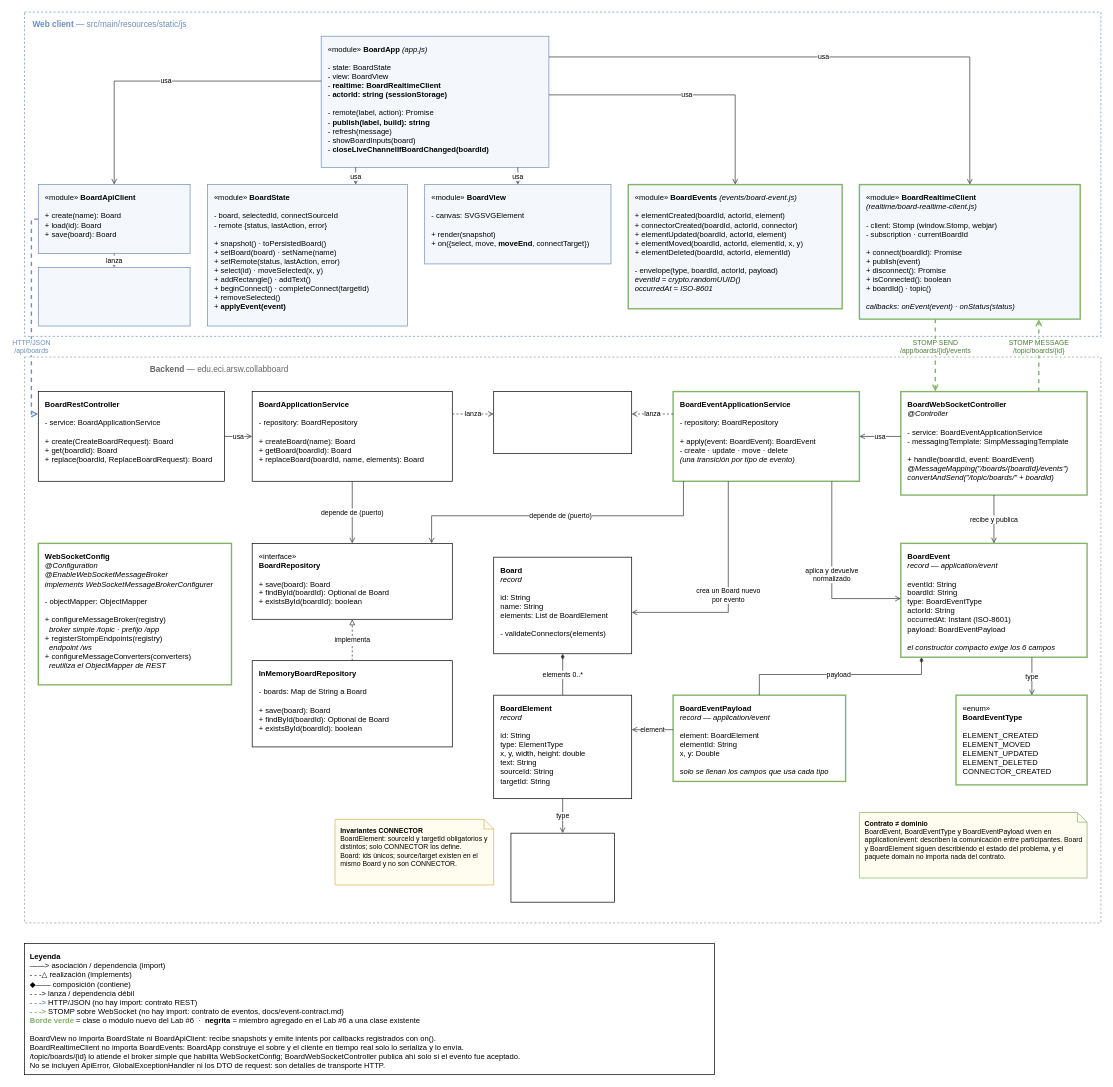
Image size: 1113x1087. Some labels were removed from this diagram. Each missing label, with the centre of its shape:
BoardApiError extends Error status: number code: string: the point at 114,296
BoardNotFoundException extends RuntimeException + boardId(): String: the point at 562,422
«enum» ElementType RECTANGLE TEXT CONNECTOR: the point at 562,867
